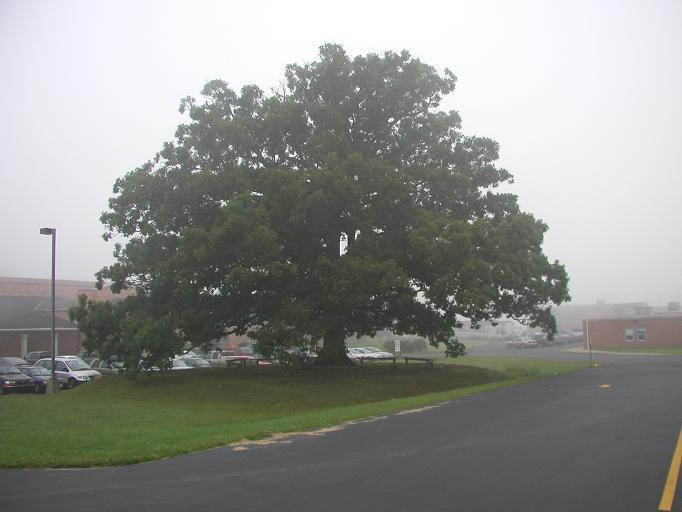car: (31, 358, 103, 389), (12, 365, 64, 395), (1, 365, 36, 396), (220, 355, 270, 374), (1, 355, 34, 383), (199, 350, 236, 370), (179, 357, 214, 377), (22, 350, 53, 370), (346, 348, 382, 365), (358, 347, 395, 363), (335, 348, 368, 365), (526, 332, 561, 348), (505, 336, 538, 349)
